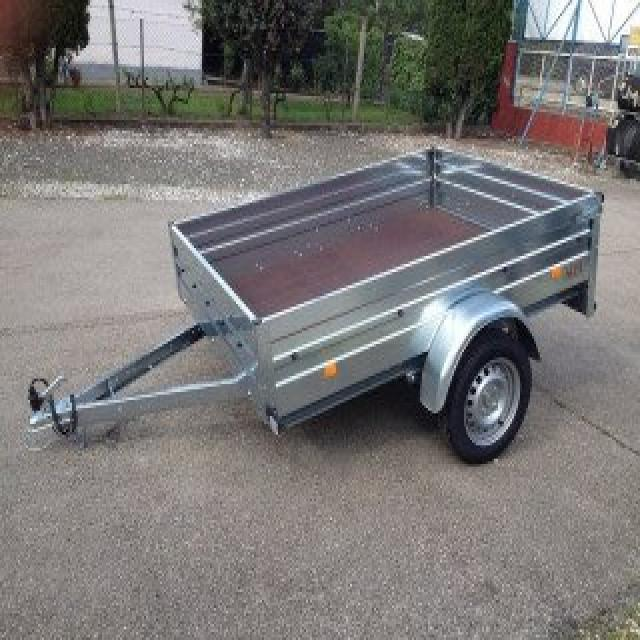trailer: (168, 142, 604, 438)
